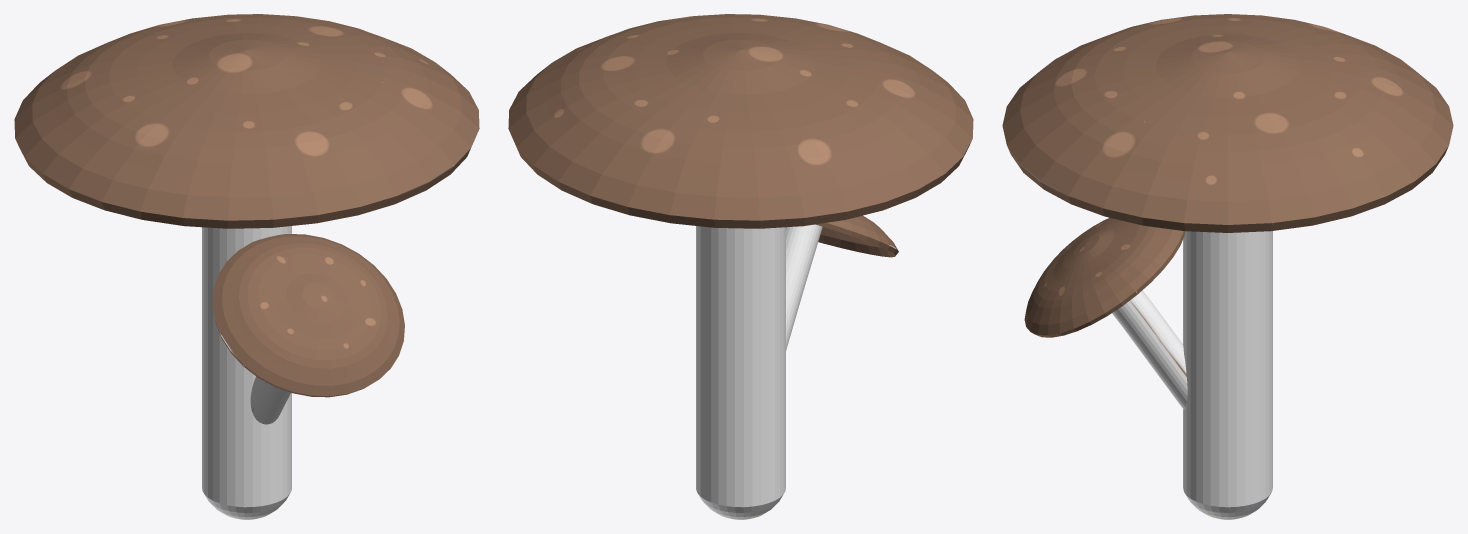
Rendered from shroom.gltf.
3 renders of one model, left to right at view 1: azimuth 30°, elevation 25°; view 2: azimuth 150°, elevation 25°; view 3: azimuth 270°, elevation 25°, orthographic.
Parts seen in each view (by area): view 1: Shroom; view 2: Shroom; view 3: Shroom.
Boxes of the visible parts, x1=… form: Shroom: x1=14, y1=14, x2=479, y2=519; Shroom: x1=508, y1=14, x2=973, y2=519; Shroom: x1=1002, y1=14, x2=1453, y2=519.
Bounding box in the file's own units: 9.66 × 10.53 × 9.29.
Materials: 1 (1 with a texture image).
